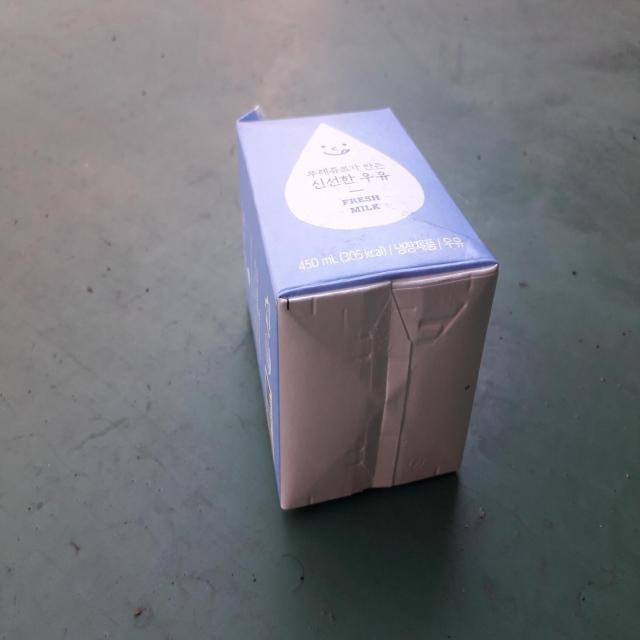paperpack: (237, 108, 499, 510)
